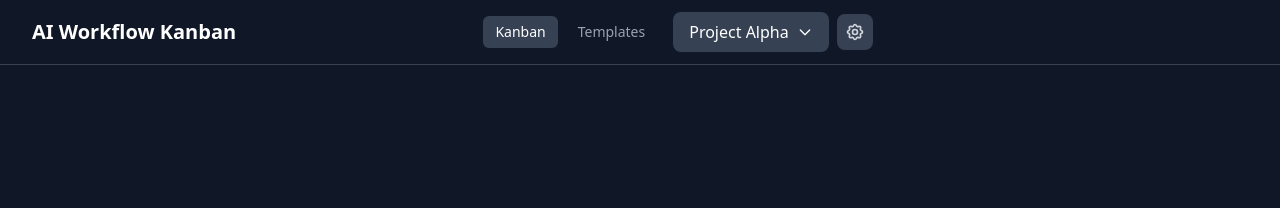
Header › Project Selector Integration › should open dropdown when clicking selector
Click the button "Project Alpha" at (751, 32), box [673,12,829,52]
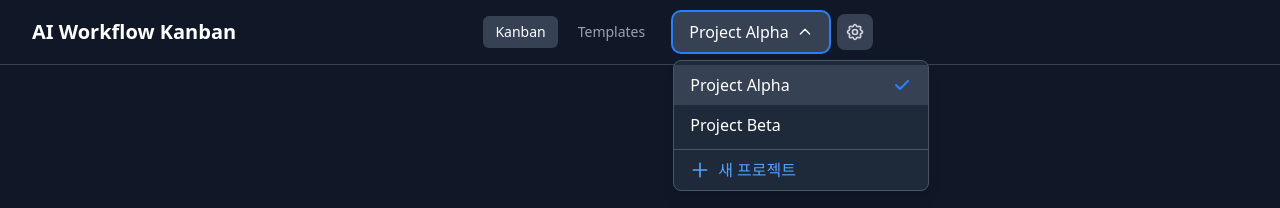
Check: the list is shown, box [674,61,928,149]
